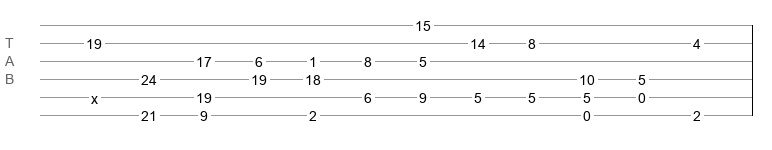0: (583, 108, 591, 118), (638, 90, 646, 100)
1: (309, 54, 317, 64)
10: (579, 72, 595, 82)
14: (470, 36, 486, 46)
15: (415, 18, 431, 28)
17: (196, 54, 212, 64)
18: (305, 72, 321, 82)
19: (86, 36, 102, 46), (196, 90, 212, 100), (251, 72, 267, 82)
2: (309, 108, 317, 118), (693, 108, 701, 118)
21: (141, 108, 157, 118)
24: (141, 72, 157, 82)
4: (693, 36, 701, 46)
5: (419, 54, 427, 64), (474, 90, 482, 100), (528, 90, 536, 100), (583, 90, 591, 100), (638, 72, 646, 82)
6: (255, 54, 263, 64), (364, 90, 372, 100)
8: (364, 54, 372, 64), (528, 36, 536, 46)
9: (200, 108, 208, 118), (419, 90, 427, 100)
x: (91, 91, 98, 99)
